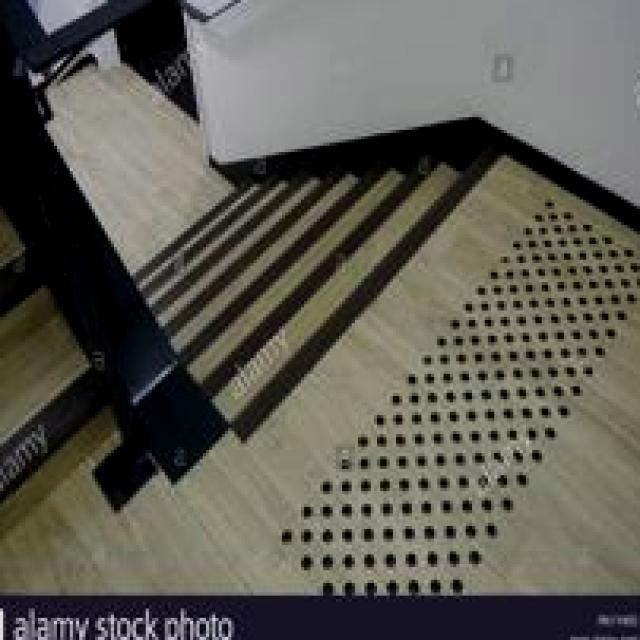downstair: (134, 182, 470, 464)
